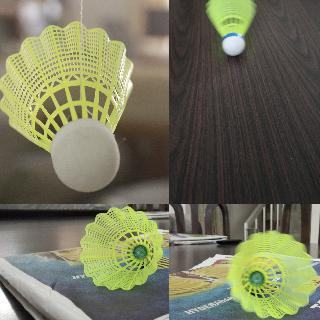shuttlecock: (0, 20, 133, 192), (228, 230, 314, 318), (80, 206, 162, 290), (205, 0, 257, 56)
